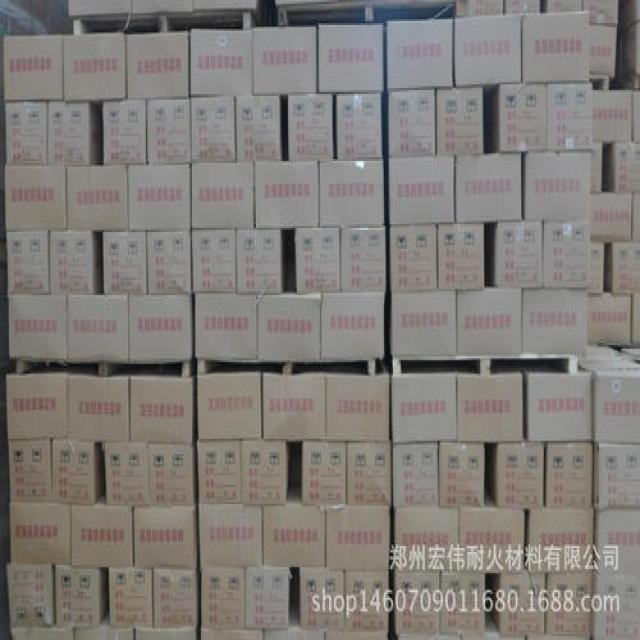box: (593, 512, 640, 640), (262, 489, 328, 571), (579, 358, 640, 445), (453, 13, 522, 88), (521, 372, 591, 443), (387, 17, 453, 92), (521, 11, 590, 82), (388, 155, 456, 226), (522, 151, 591, 220), (454, 374, 521, 445), (317, 23, 384, 94), (456, 155, 524, 224), (65, 374, 131, 445), (257, 291, 323, 362), (256, 157, 320, 230), (197, 370, 262, 441), (393, 374, 458, 445), (251, 27, 317, 96), (460, 504, 525, 573), (325, 374, 389, 443), (128, 295, 192, 364), (63, 33, 127, 102), (390, 291, 457, 356), (191, 161, 256, 228), (188, 29, 253, 96), (262, 372, 325, 441), (125, 31, 188, 100), (527, 508, 593, 573), (522, 289, 588, 354), (457, 289, 524, 353), (321, 291, 385, 358), (320, 159, 384, 226), (128, 163, 192, 230), (131, 376, 193, 445), (67, 295, 129, 364), (396, 508, 460, 573), (197, 502, 261, 567), (6, 374, 68, 441), (195, 293, 257, 360), (489, 82, 545, 155), (67, 165, 128, 232), (133, 506, 197, 569), (5, 165, 67, 230), (70, 504, 133, 567), (4, 34, 64, 100), (9, 295, 68, 362), (326, 508, 388, 571), (10, 502, 70, 565), (46, 100, 104, 165), (493, 220, 544, 289), (50, 230, 104, 295), (497, 571, 548, 638), (541, 220, 589, 289), (388, 88, 436, 157), (436, 86, 484, 155), (545, 82, 593, 151), (6, 563, 56, 629), (545, 441, 594, 508), (594, 443, 640, 514), (495, 443, 545, 508), (52, 441, 102, 506), (438, 439, 484, 508), (191, 94, 237, 163), (55, 565, 106, 627), (547, 571, 594, 638), (393, 443, 440, 510), (438, 224, 485, 291), (389, 226, 436, 293), (236, 96, 283, 163), (288, 94, 334, 161), (337, 92, 383, 159), (241, 441, 288, 506), (302, 441, 347, 508), (340, 226, 385, 293), (237, 228, 282, 295), (192, 228, 237, 295), (146, 230, 192, 295), (145, 98, 191, 163), (148, 445, 196, 506), (347, 443, 392, 508), (296, 226, 340, 291), (6, 230, 50, 295), (300, 565, 346, 627), (246, 567, 291, 630), (5, 100, 47, 167), (440, 571, 486, 632), (396, 571, 442, 632), (9, 439, 52, 504), (104, 230, 147, 295), (104, 100, 147, 165), (109, 565, 154, 627), (202, 567, 246, 630), (104, 443, 148, 506), (197, 441, 241, 502), (344, 571, 389, 630), (152, 569, 197, 627), (588, 293, 631, 343), (591, 90, 632, 142), (590, 192, 631, 243), (604, 240, 640, 295), (603, 142, 640, 194), (264, 611, 324, 640), (74, 615, 136, 640), (589, 23, 617, 77), (621, 23, 640, 92), (582, 0, 618, 27), (10, 625, 74, 640), (579, 343, 625, 362), (456, 0, 504, 17), (589, 243, 604, 297), (134, 627, 196, 640), (590, 140, 603, 194), (620, 0, 640, 33), (504, 0, 540, 15), (547, 0, 582, 13), (631, 192, 640, 241), (632, 291, 640, 345)
